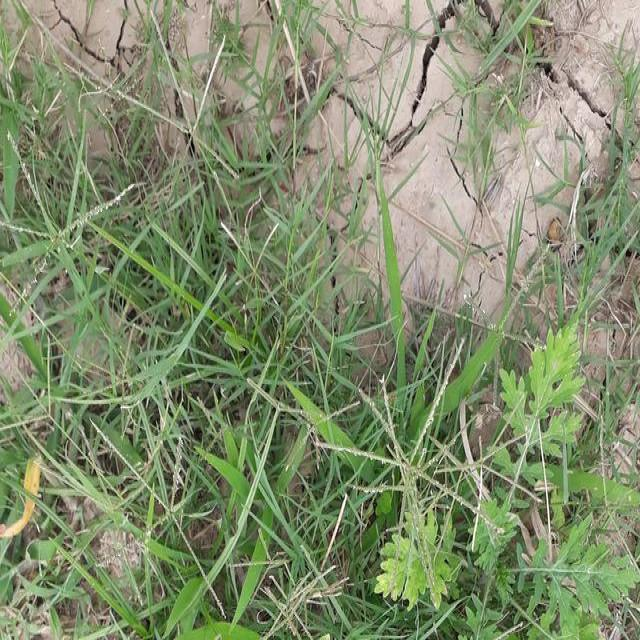weed: (0, 75, 349, 630), (360, 309, 640, 638)
